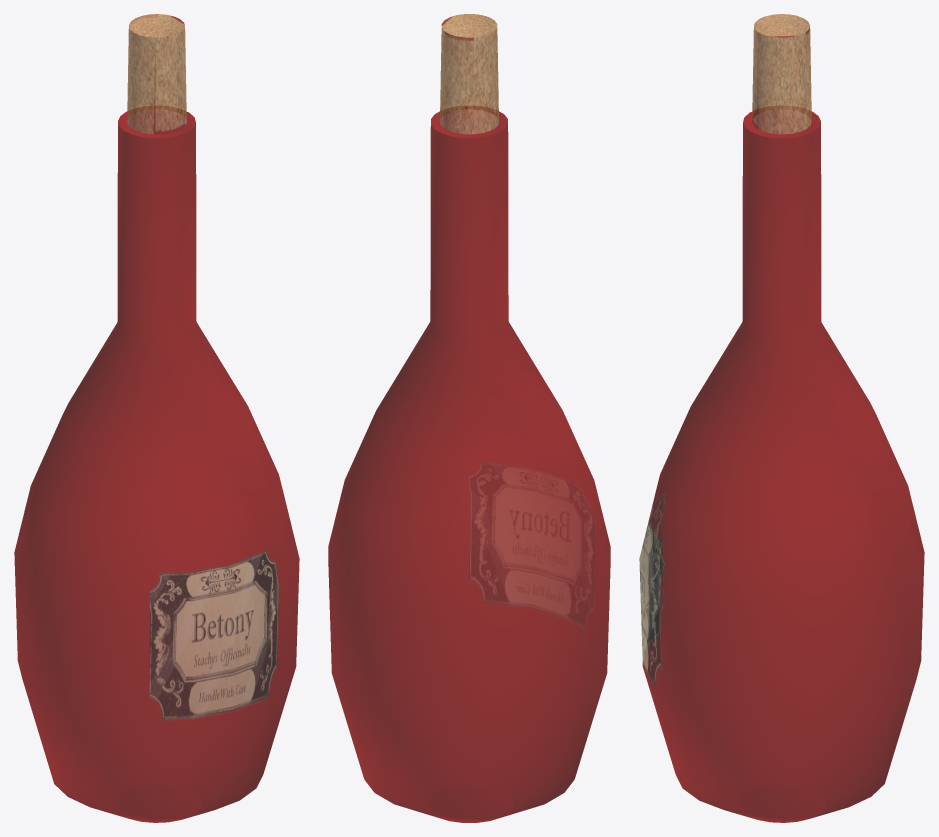
File: Potion Red.fbx
The picture shows the model from 3 angles, left to right: view 1: azimuth 30°, elevation 25°; view 2: azimuth 150°, elevation 25°; view 3: azimuth 270°, elevation 25°; orthographic projection.
Visible parts, largest first — view 1: pasted__pCylinder9; view 2: pasted__pCylinder9; view 3: pasted__pCylinder9.
Boxes of the visible parts, box(x1,y1,x2,y2) form: pasted__pCylinder9: box(14, 14, 299, 822); pasted__pCylinder9: box(328, 14, 610, 822); pasted__pCylinder9: box(639, 14, 924, 822).
Bounding box in the file's own units: 0.3908 × 1.18 × 0.3908.
